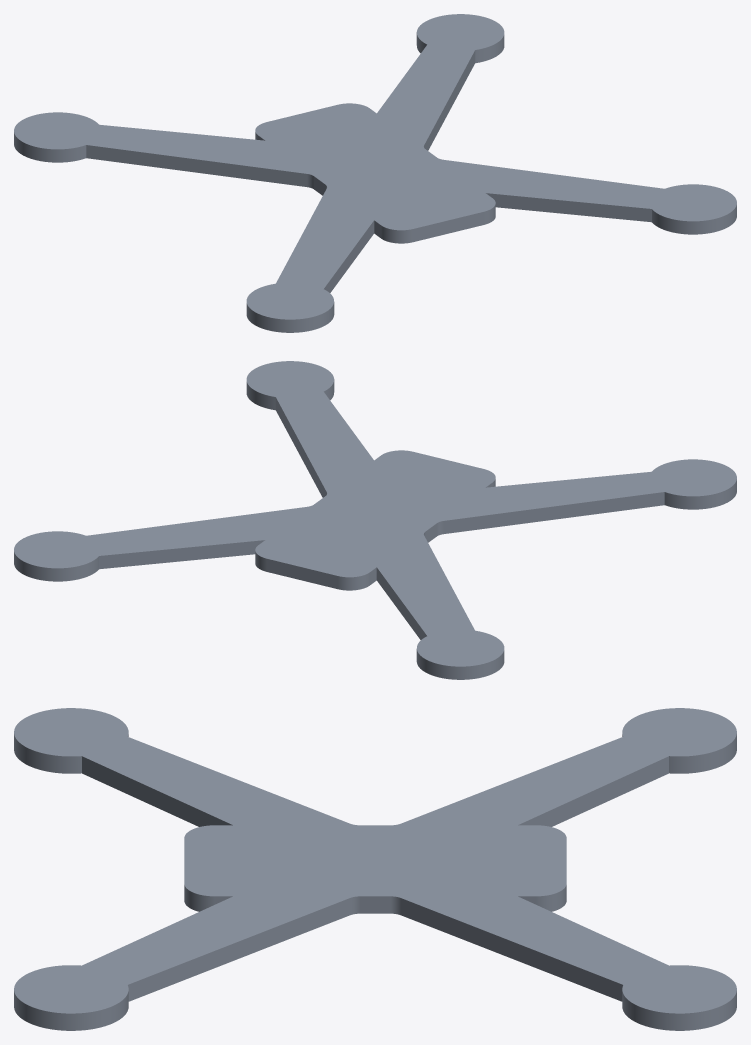
File: step-1-preview-1.glb
3 renders of one model, top to bottom at view 1: azimuth 30°, elevation 25°; view 2: azimuth 150°, elevation 25°; view 3: azimuth 270°, elevation 25°, orthographic. The views are drawn at different scales.
Parts seen in each view (by area): view 1: preview_29, preview_21, preview_5, preview_26, preview_6, preview_20, preview_2, preview_11, preview_27, preview_12; view 2: preview_29, preview_25, preview_13, preview_20, preview_12, preview_26, preview_16, preview_7, preview_19, preview_6; view 3: preview_29, preview_7, preview_11, preview_19, preview_27, preview_6, preview_12, preview_20, preview_26, preview_9.
Part boxes in pixels (x1,y1,x2,y2): preview_29: (14, 14, 736, 319); preview_21: (86, 145, 307, 186); preview_5: (486, 193, 651, 222); preview_26: (246, 302, 334, 332); preview_6: (652, 205, 736, 234); preview_20: (14, 132, 86, 162); preview_2: (413, 212, 483, 242); preview_11: (424, 50, 475, 150); preview_27: (324, 220, 374, 292); preview_12: (416, 32, 504, 63); preview_29: (14, 361, 736, 666); preview_25: (443, 492, 664, 533); preview_13: (99, 540, 264, 569); preview_20: (416, 649, 504, 679); preview_12: (14, 552, 98, 581); preview_26: (664, 479, 736, 509); preview_16: (267, 559, 337, 589); preview_7: (275, 397, 326, 497); preview_19: (376, 567, 426, 639); preview_6: (246, 379, 334, 410); preview_29: (14, 708, 736, 1013); preview_7: (128, 898, 349, 1001); preview_11: (401, 898, 622, 1001); preview_19: (518, 756, 668, 826); preview_27: (82, 756, 232, 826); preview_6: (14, 991, 128, 1030); preview_12: (622, 991, 736, 1030); preview_20: (622, 734, 736, 773); preview_26: (14, 734, 128, 773); preview_9: (360, 896, 390, 913).
Bounding box in the file's own units: 0.1891 × 0.005 × 0.1891.
